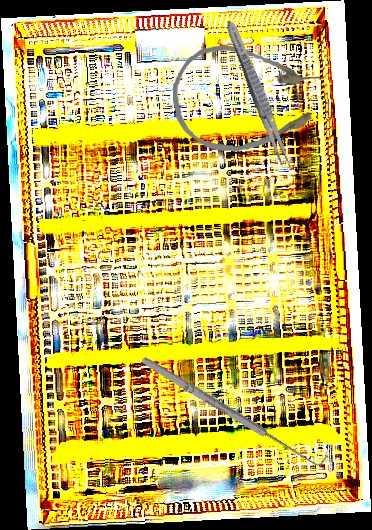Cannula: (171, 44, 325, 155)
Dressing Forceps: (221, 17, 297, 174)
Hook Surgical: (137, 346, 331, 475)
